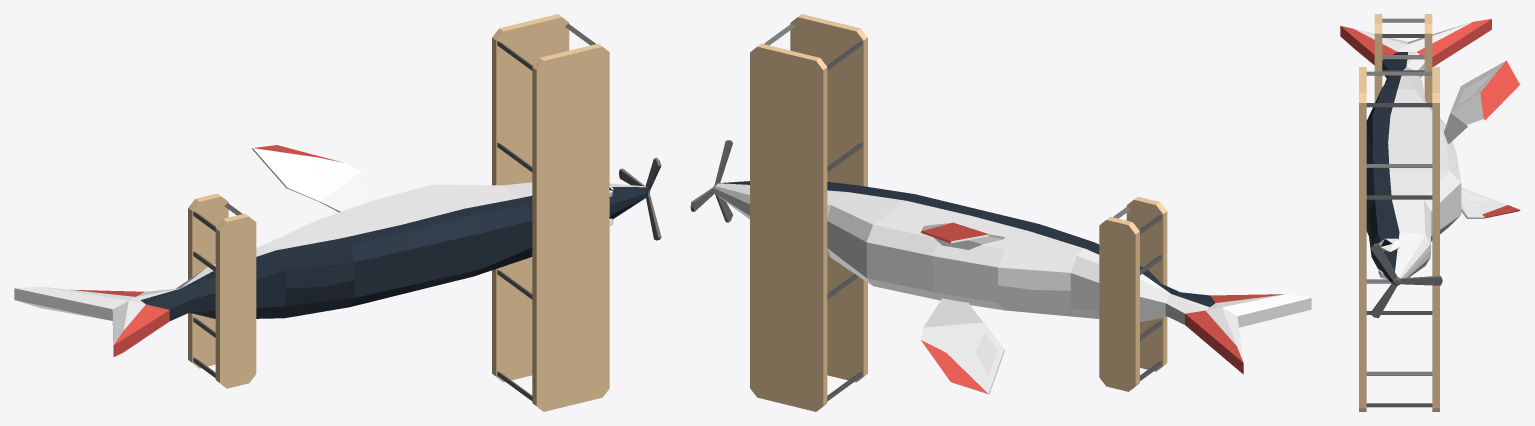
File: FlyingFishDrip.glb
3 views of the same model, side by side, from view 1: azimuth 30°, elevation 25°; view 2: azimuth 150°, elevation 25°; view 3: azimuth 270°, elevation 25° (orthographic). The views are drawn at different scales.
Parts seen in each view (by area): view 1: FlyingFishDrip; view 2: FlyingFishDrip; view 3: FlyingFishDrip.
Boxes of the visible parts, <box> form: FlyingFishDrip: <box>14,14,661,411</box>; FlyingFishDrip: <box>690,14,1311,411</box>; FlyingFishDrip: <box>1340,14,1520,411</box>.
Size of the model in its own units: 0.7928 by 0.4571 by 0.2343.
Materials: 1 (1 with a texture image).
